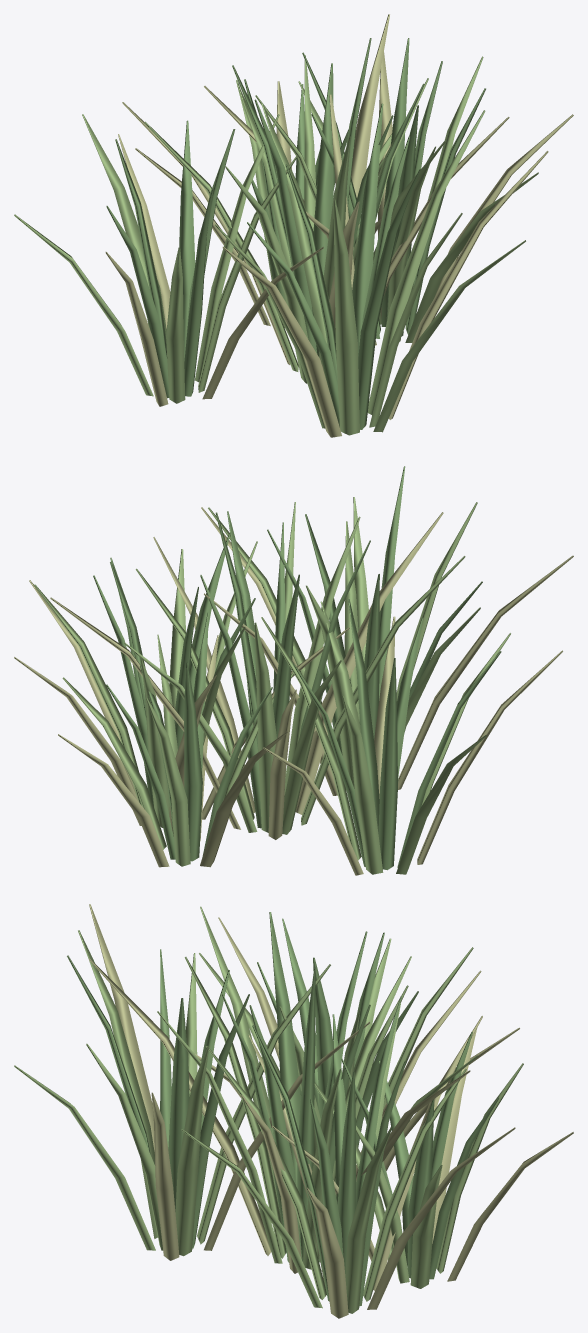
Rendered from campo_grass_5.glb.
The picture shows the model from 3 angles, top to bottom: view 1: azimuth 30°, elevation 25°; view 2: azimuth 150°, elevation 25°; view 3: azimuth 270°, elevation 25°; orthographic projection. The views are drawn at different scales.
Visible parts, largest first — view 1: CampoGrassFresh, CampoGrassDeep, CampoGrassGold; view 2: CampoGrassFresh, CampoGrassDeep, CampoGrassGold; view 3: CampoGrassFresh, CampoGrassDeep, CampoGrassGold.
Boxes of the visible parts, <box> form: CampoGrassFresh: <box>14,55,538,435</box>; CampoGrassDeep: <box>106,38,485,429</box>; CampoGrassGold: <box>105,14,573,437</box>; CampoGrassFresh: <box>34,497,510,874</box>; CampoGrassDeep: <box>93,466,501,870</box>; CampoGrassGold: <box>14,507,573,875</box>; CampoGrassFresh: <box>14,906,523,1313</box>; CampoGrassDeep: <box>67,912,498,1306</box>; CampoGrassGold: <box>89,904,573,1318</box>.
Bounding box in the file's own units: 1.17 × 0.6788 × 1.08.
